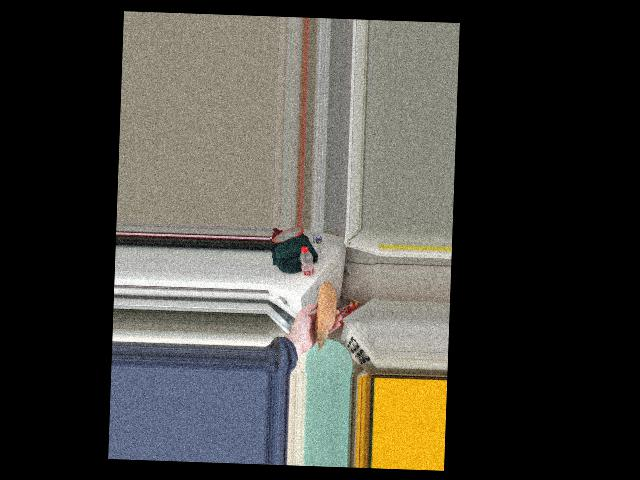sweet_potato: (313, 281, 337, 348)
